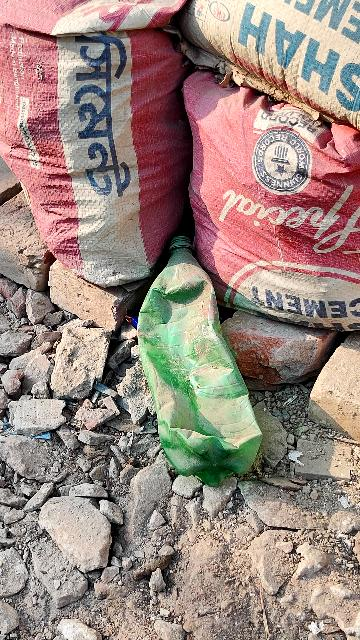bottle: (123, 238, 273, 478)
